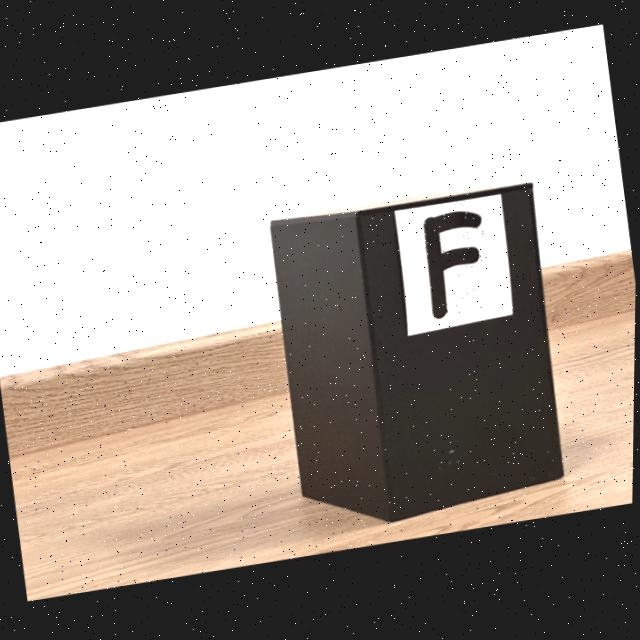F: (424, 213, 483, 320)
